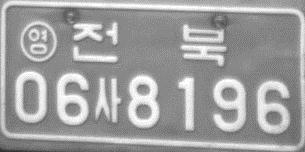0: (13, 70, 50, 124)
1: (171, 76, 206, 131)
6: (255, 79, 291, 134), (55, 71, 89, 126)
8: (126, 74, 160, 129)
9: (211, 77, 248, 132)
사: (94, 76, 122, 123)
영: (19, 20, 57, 64)
전북_D: (71, 21, 226, 66)
